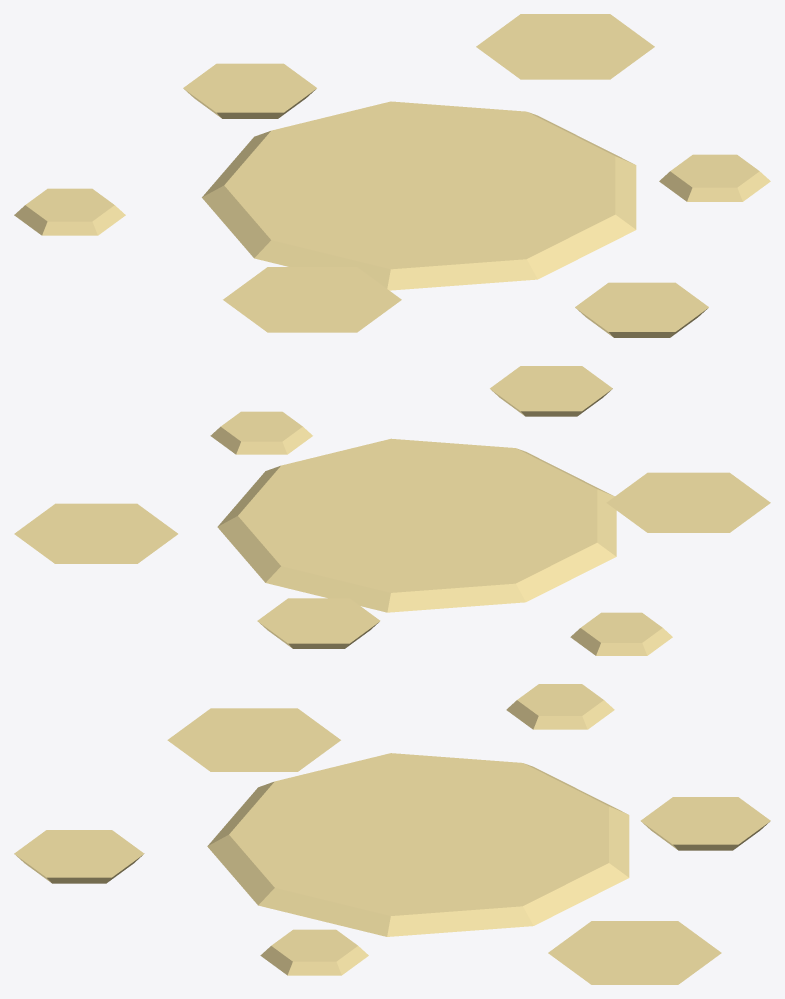
The model's file is splat_mash.glb.
3 renders of one model, top to bottom at view 1: azimuth 30°, elevation 25°; view 2: azimuth 150°, elevation 25°; view 3: azimuth 270°, elevation 25°, orthographic. The views are drawn at different scales.
Parts seen in each view (by area): view 1: splat_splat_mash_goo; view 2: splat_splat_mash_goo; view 3: splat_splat_mash_goo.
Part boxes in pixels (<box>): splat_splat_mash_goo: <box>14,14,770,337</box>; splat_splat_mash_goo: <box>14,366,770,655</box>; splat_splat_mash_goo: <box>14,684,770,984</box>.
Size of the model in its own units: 0.3313 by 0.006 by 0.3478.
